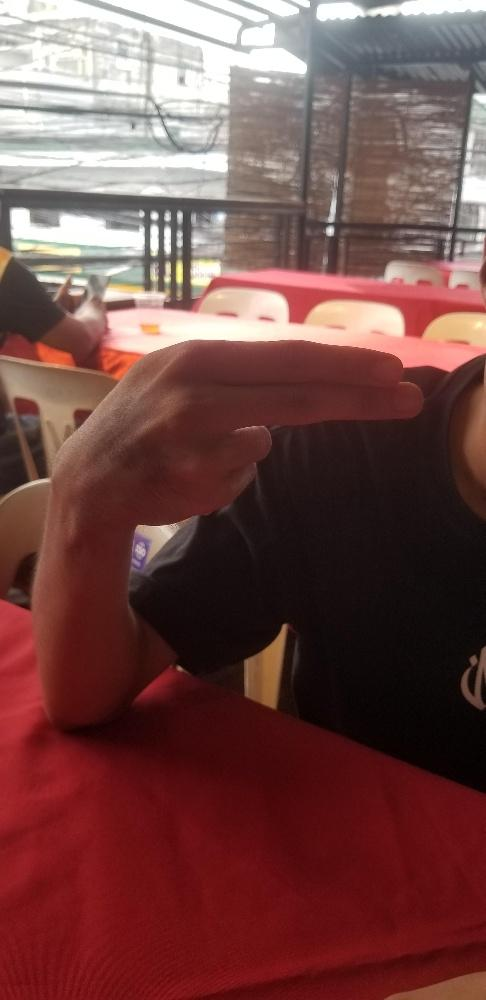h: (41, 334, 425, 531)
